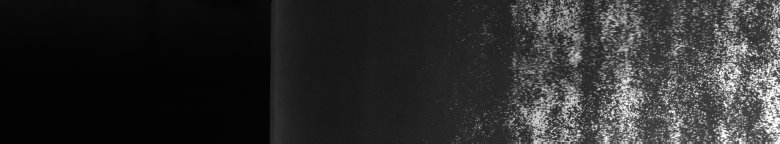kb: (520, 4, 776, 136)
